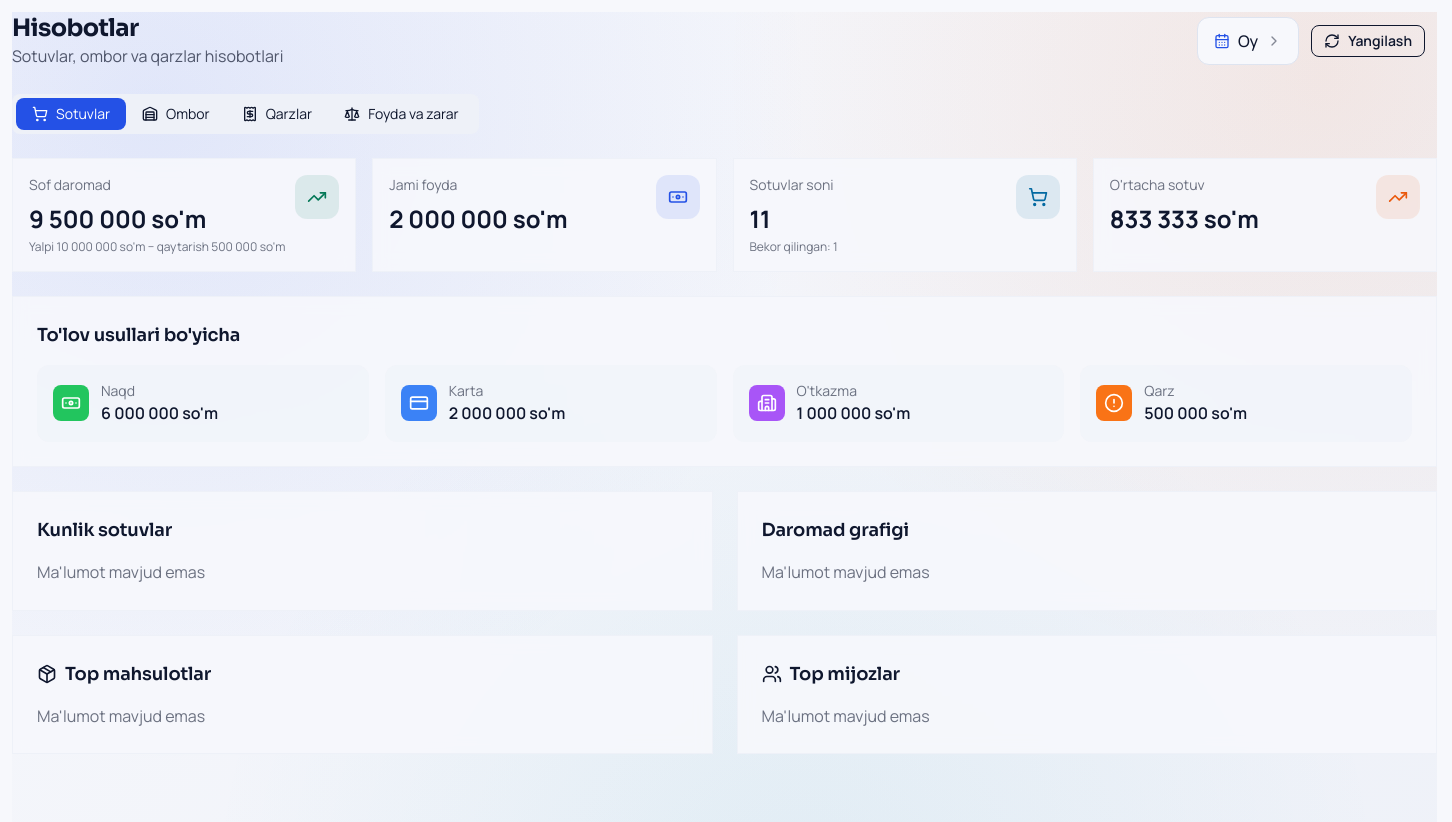
Scenario: ReportsPage › P&L xatosi qolgan hisobotlarni to'smaydi
What coordinates should you click on to do the following:
click the button "Foyda va zarar"
I would click on:
 (401, 114)
Its box is x1=328 y1=98 x2=475 y2=130.
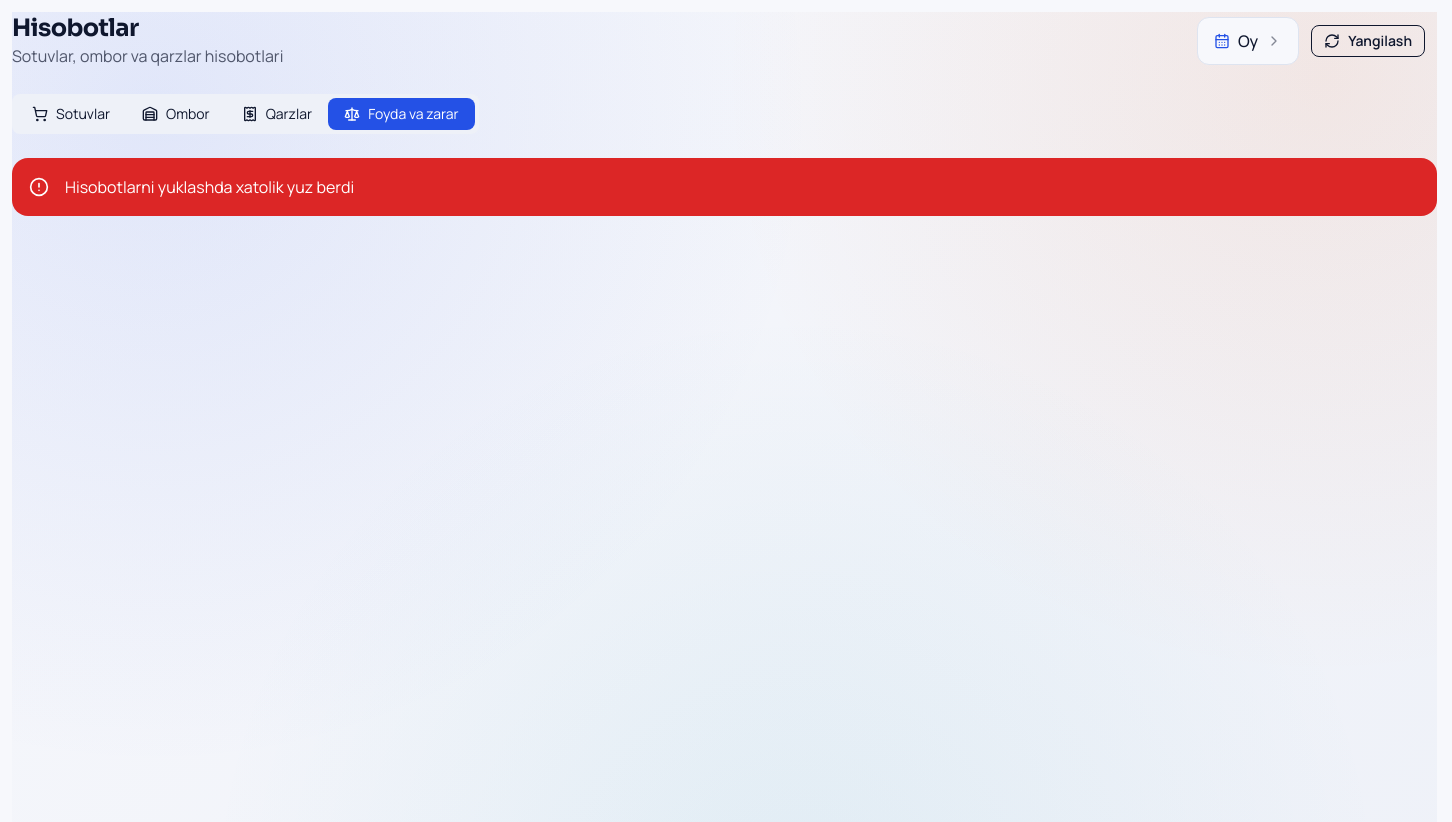
Now the text "Hisobotlarni yuklashda xatolik yuz berdi" is shown, box x1=65 y1=175 x2=354 y2=199
What coordinates should you click on to do the following:
click the button "Sotuvlar"
I would click on:
 (71, 114)
Its box is x1=16 y1=98 x2=126 y2=130.
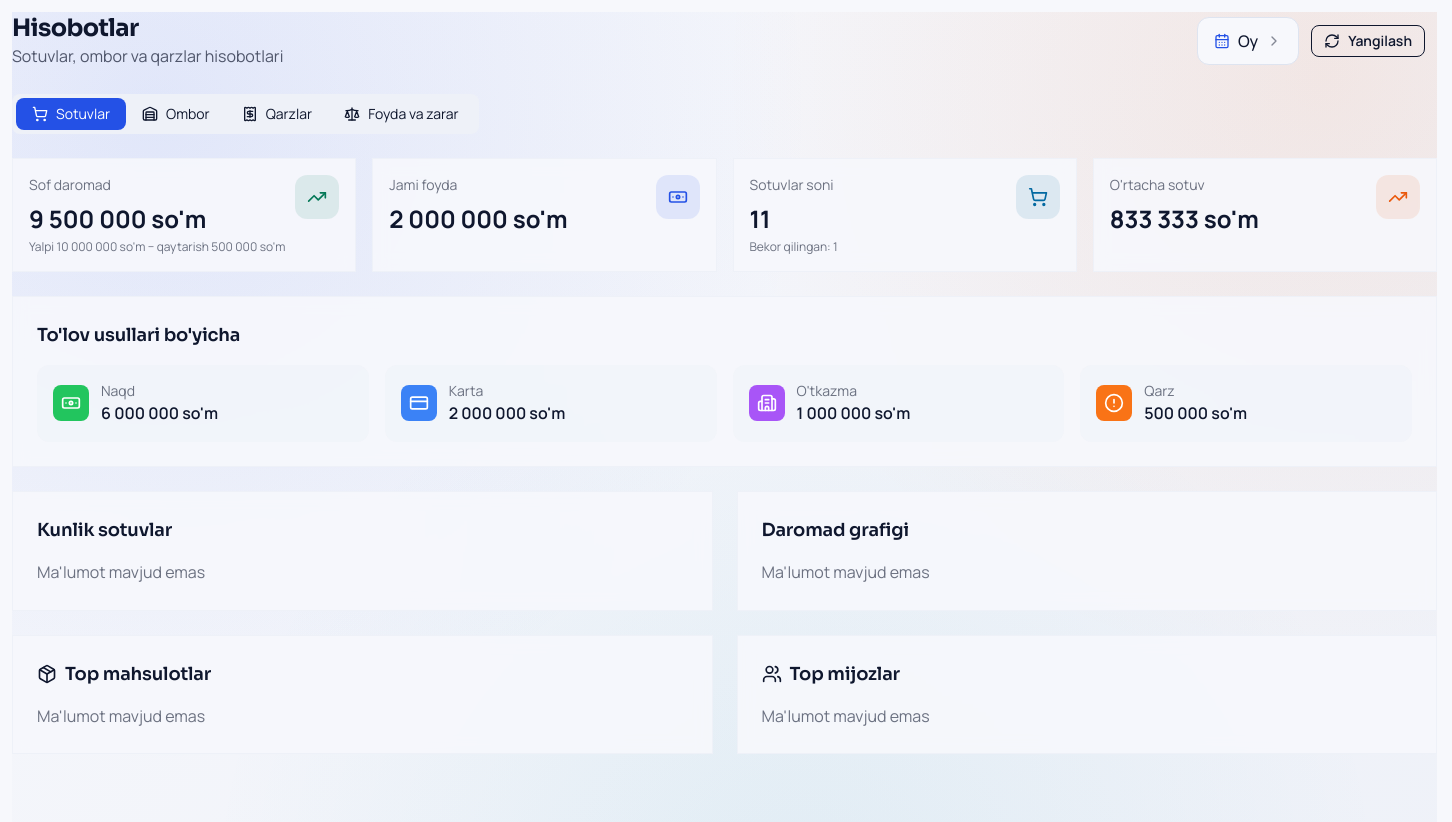
Now the text "Hisobotlarni yuklashda xatolik" is gone
